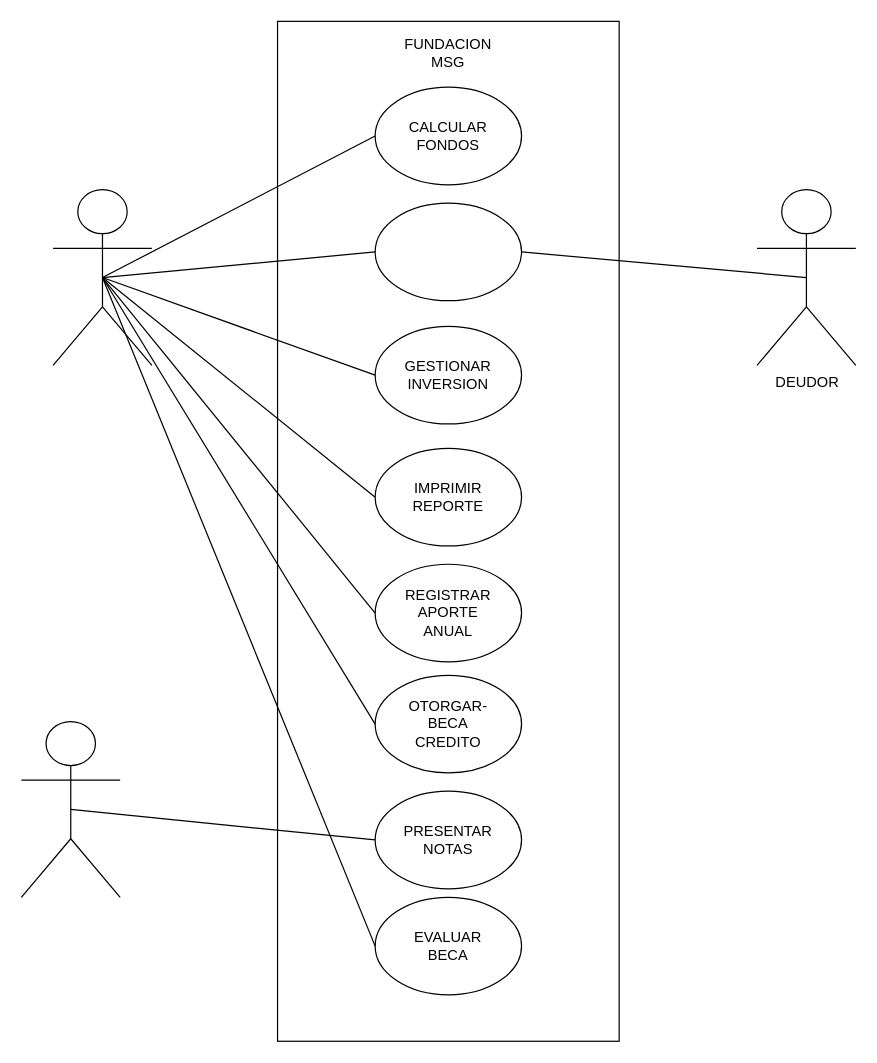
The diagram is 877 pixels wide and 1063 high, and some of its shapes have lost their labels. Each missing label, with the centre of its shape:
EMPLEADO MSG: point (102, 276)
ESTUDIANTE: point (70, 808)
GESTIONAR HIPOTECA: point (448, 251)
